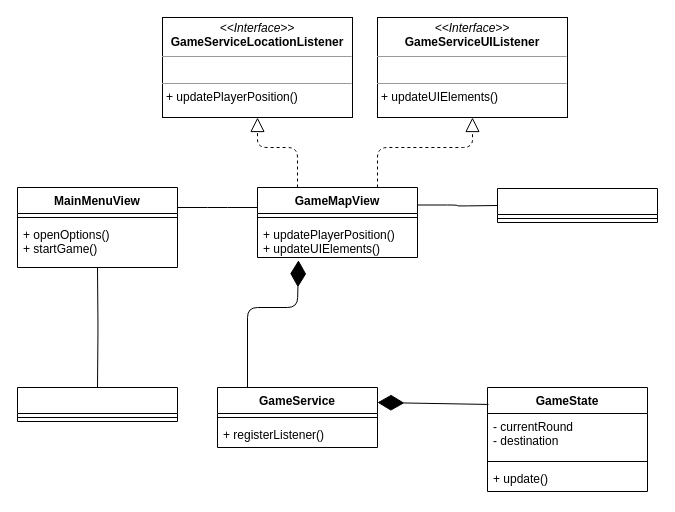
The diagram is 675 pixels wide and 512 high, and some of its shapes have lost their labels. The centre of each missing label's shape, as x and y in pixels:
"OptionsView" goes at pixel 97 404.
"VictoryView" goes at pixel 577 205.
